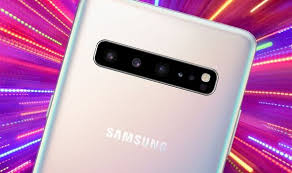samsung: (31, 1, 263, 173)
